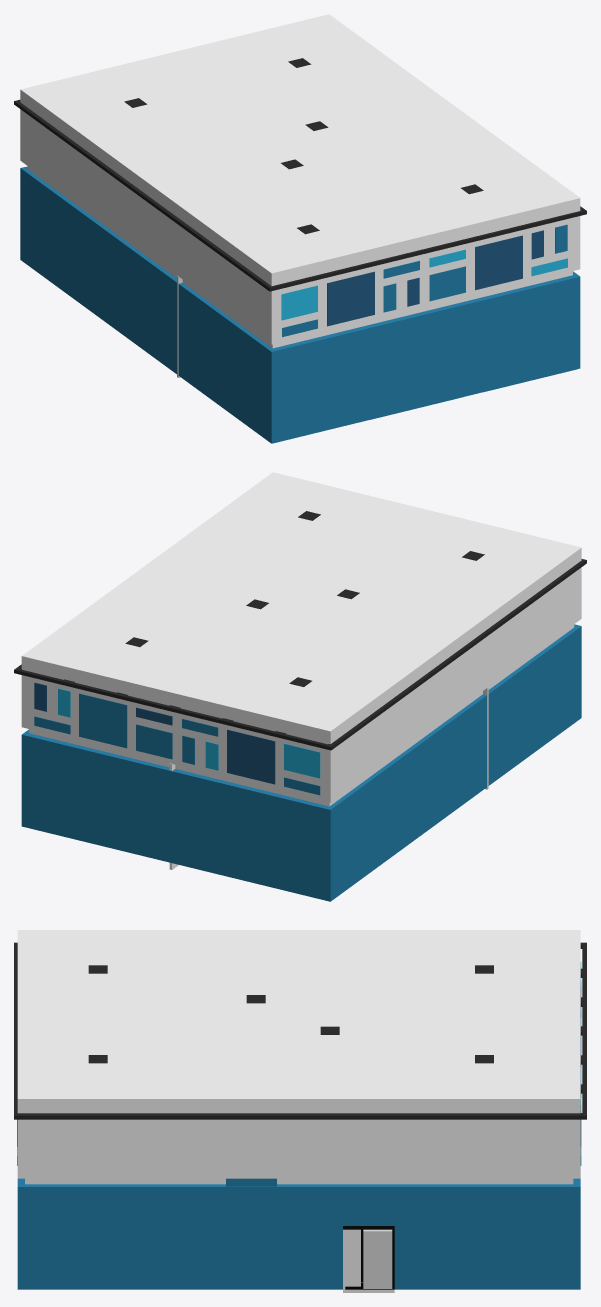
Rendered from Cube_Hall.fbx.
The picture shows the model from 3 angles, top to bottom: view 1: azimuth 30°, elevation 25°; view 2: azimuth 150°, elevation 25°; view 3: azimuth 270°, elevation 25°; orthographic projection. The views are drawn at different scales.
Visible parts, largest first — view 1: Cube, Cube.061, Plane.011; view 2: Cube, Cube.065, Plane.011; view 3: Cube, Plane.011, Cube.070, Cube.084.
Boxes of the visible parts, left/top/right/bottom form: Cube: left=20, top=14, right=580, bottom=443; Cube.061: left=281, top=224, right=567, bottom=337; Plane.011: left=14, top=99, right=586, bottom=291; Cube: left=21, top=472, right=581, bottom=901; Cube.065: left=34, top=682, right=320, bottom=795; Plane.011: left=14, top=559, right=586, bottom=750; Cube: left=17, top=930, right=580, bottom=1289; Plane.011: left=14, top=942, right=586, bottom=1119; Cube.070: left=343, top=1226, right=394, bottom=1292; Cube.084: left=363, top=1229, right=392, bottom=1288.
Size of the model in its own units: 2059 by 1096 by 2859.
